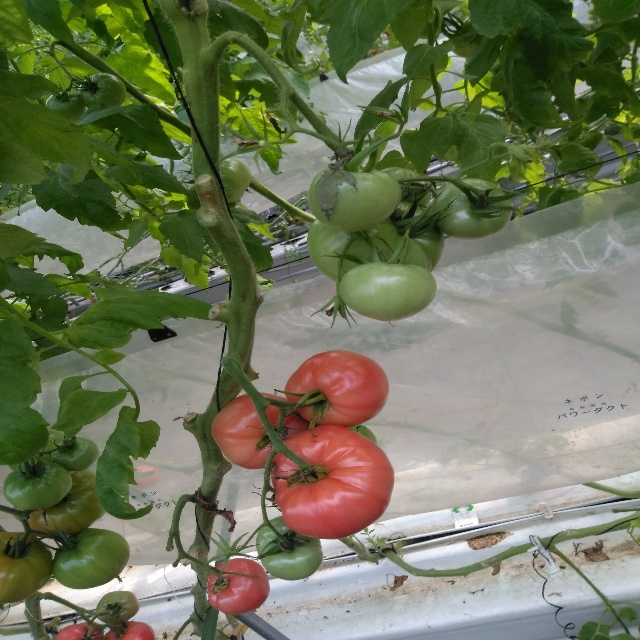b_fully_ripened: (270, 425, 395, 540), (285, 351, 389, 427), (211, 392, 310, 469), (207, 557, 270, 615)
b_green: (308, 202, 445, 282), (338, 261, 437, 322), (309, 169, 402, 232), (27, 469, 105, 537), (427, 179, 512, 240), (53, 528, 131, 590), (256, 516, 324, 581), (1, 531, 53, 604), (3, 460, 74, 510), (53, 437, 99, 470)
